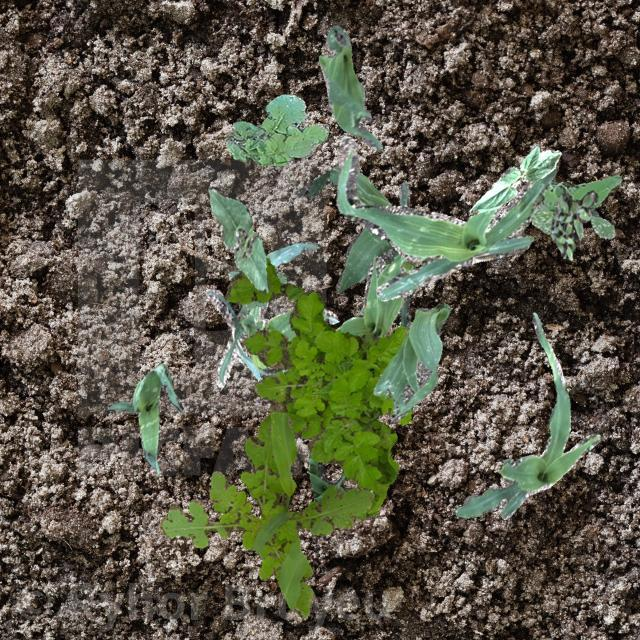crop: (334, 136, 556, 300), (454, 312, 600, 518), (205, 240, 338, 386), (258, 252, 412, 378), (294, 164, 411, 328), (372, 303, 448, 422), (106, 362, 182, 472), (318, 24, 380, 150), (206, 186, 268, 292), (468, 144, 560, 213), (306, 452, 351, 502)
weed: (224, 256, 412, 520), (158, 410, 372, 616), (225, 94, 328, 164), (530, 174, 620, 238), (548, 190, 596, 258), (227, 268, 286, 308)
